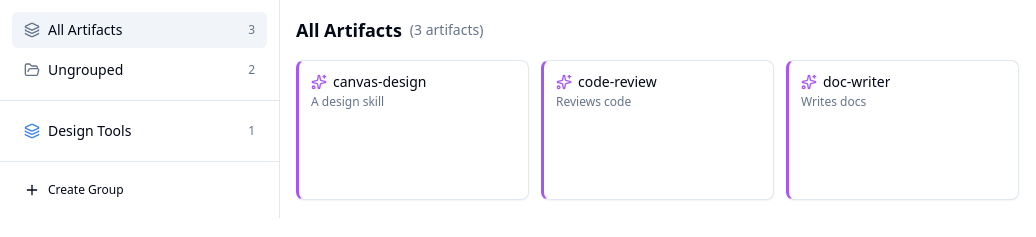
GroupedArtifactView › clicking a group in the sidebar shows only that group's artifacts
The width and height of the screenshot is (1036, 237).
Step 1. Click the text "Design Tools" → (90, 130), box [48, 121, 131, 140]
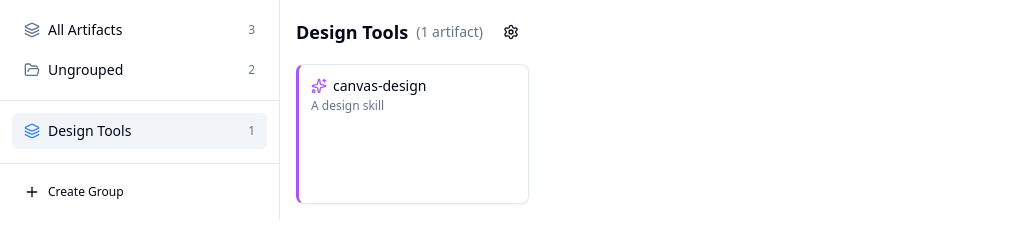
Check: the button "code-review" is gone
Check: the button "doc-writer" is gone
Check: the text "(1 artifact)" is shown, box [416, 22, 483, 42]
